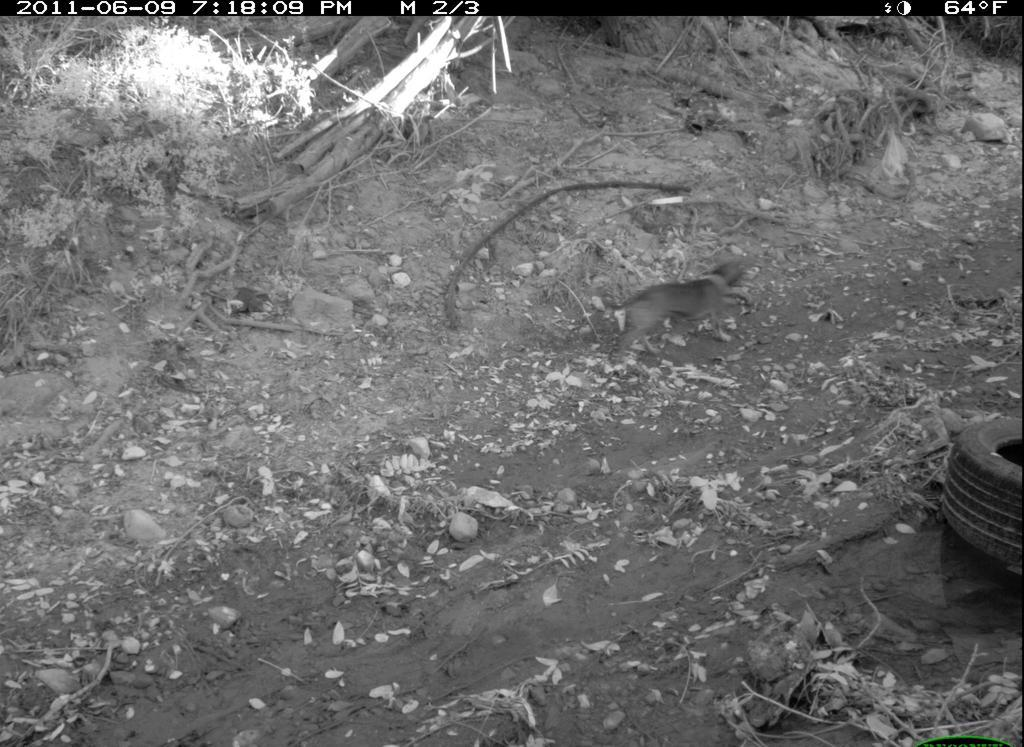dog: (588, 256, 759, 375)
